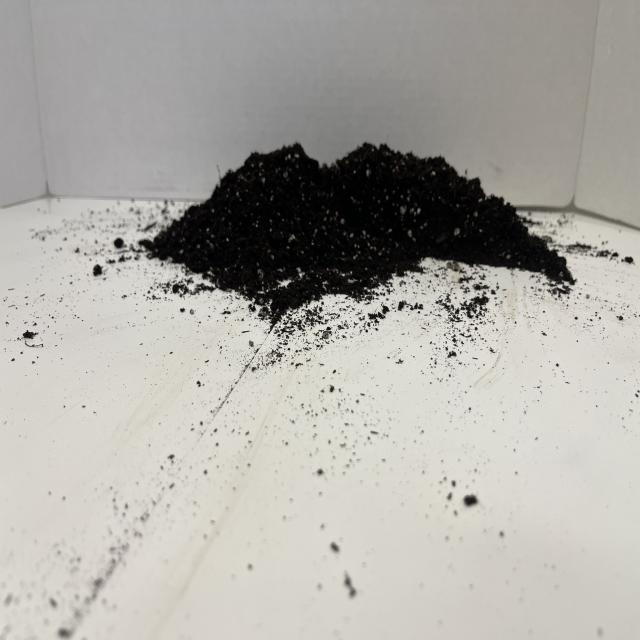soil: (138, 137, 576, 324)
